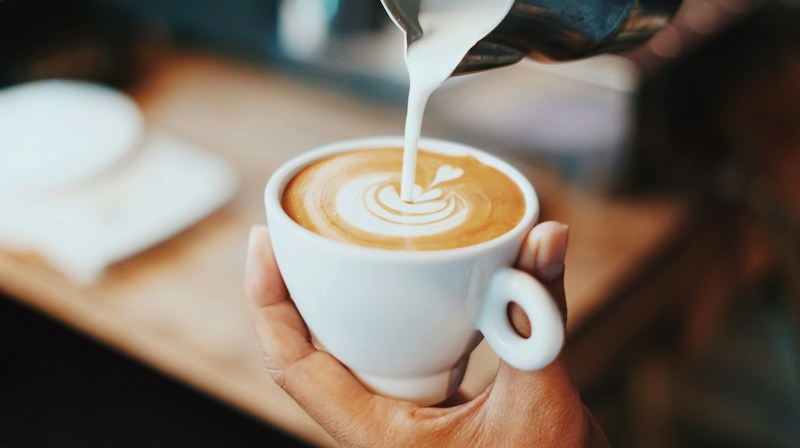cup: (264, 133, 568, 405)
